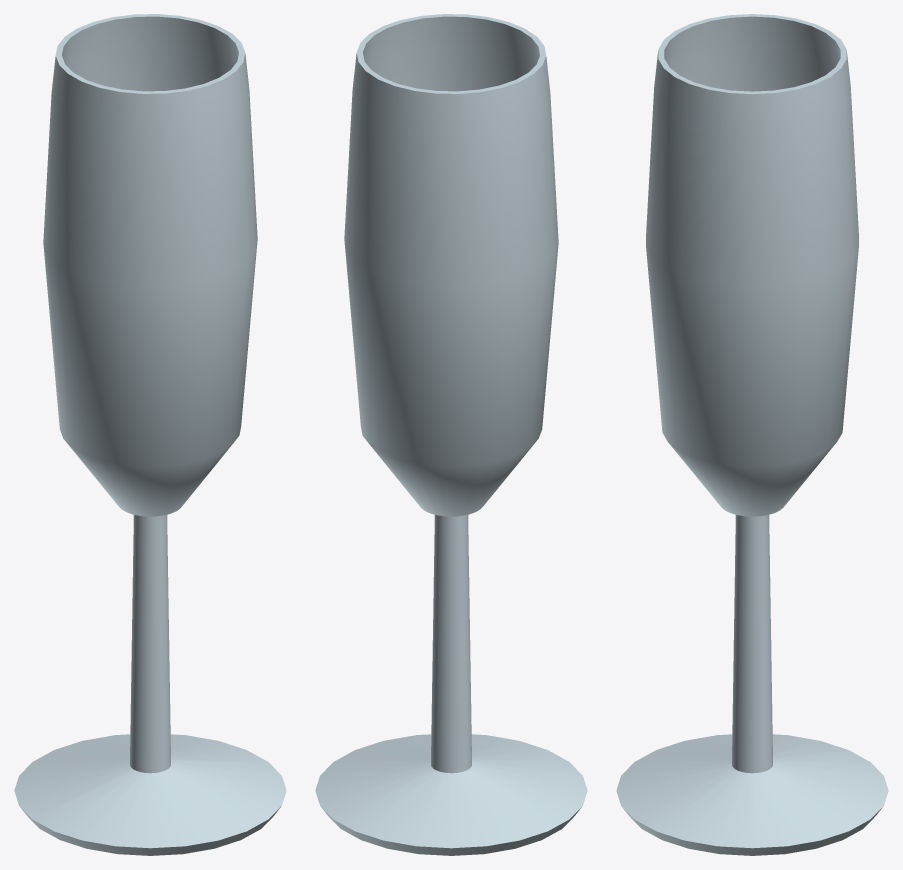
Rendered from cocktail_champagne_flute.glb.
3 views of the same model, side by side, from view 1: azimuth 30°, elevation 25°; view 2: azimuth 150°, elevation 25°; view 3: azimuth 270°, elevation 25° (orthographic).
Parts seen in each view (by area): view 1: cocktail_champagne_flute; view 2: cocktail_champagne_flute; view 3: cocktail_champagne_flute.
Part boxes in pixels (<box>): cocktail_champagne_flute: <box>14,14,286,855</box>; cocktail_champagne_flute: <box>315,14,587,855</box>; cocktail_champagne_flute: <box>616,14,888,855</box>.
Size of the model in its own units: 0.066 by 0.2 by 0.066.
